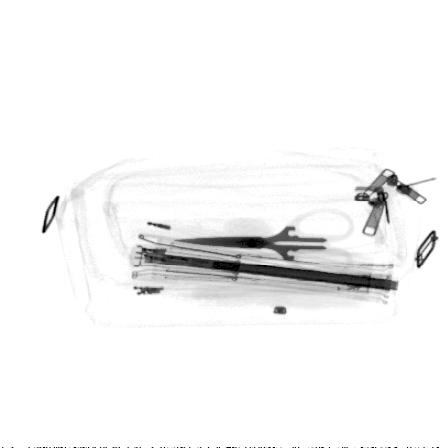Scissors: (174, 205, 358, 278)
